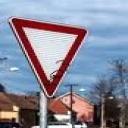preferencia: (8, 12, 91, 99)
